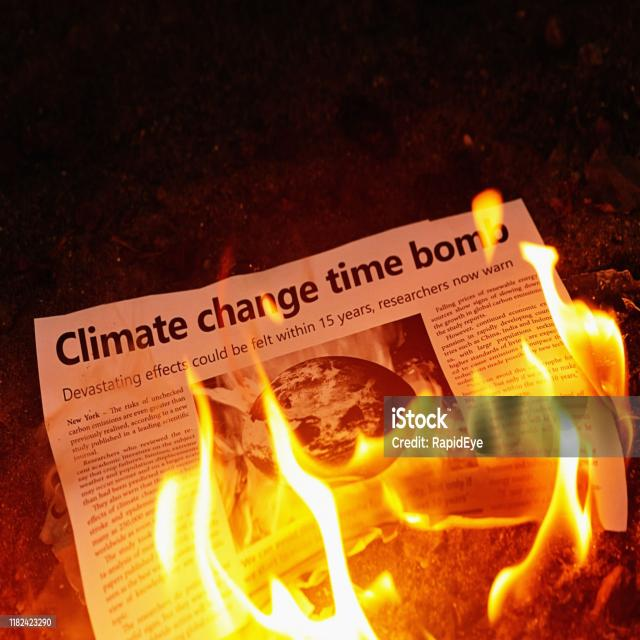fire: (154, 358, 378, 640), (487, 334, 590, 625), (521, 243, 634, 459), (383, 478, 497, 529), (472, 188, 504, 265)
